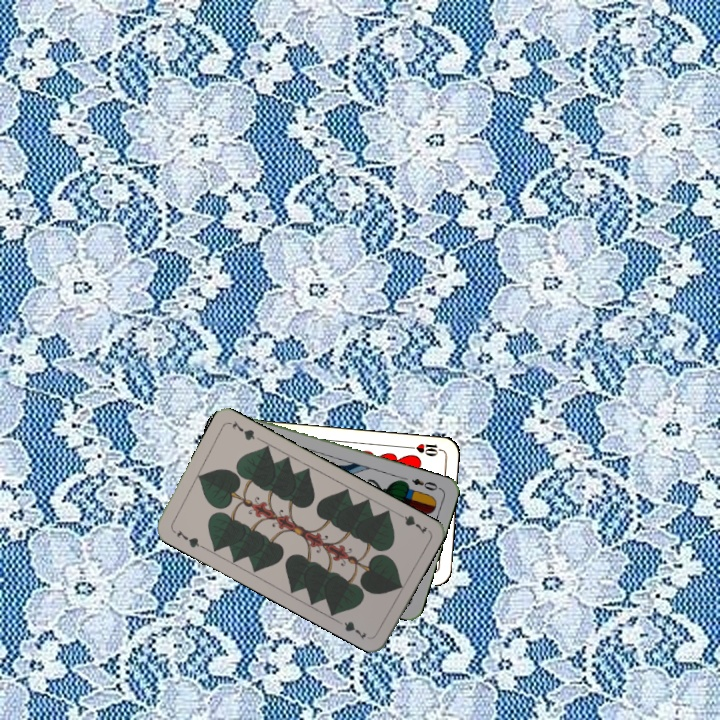EO: (408, 474, 443, 493)
G7: (392, 509, 430, 537), (168, 525, 206, 551)
H10: (405, 439, 446, 459)
